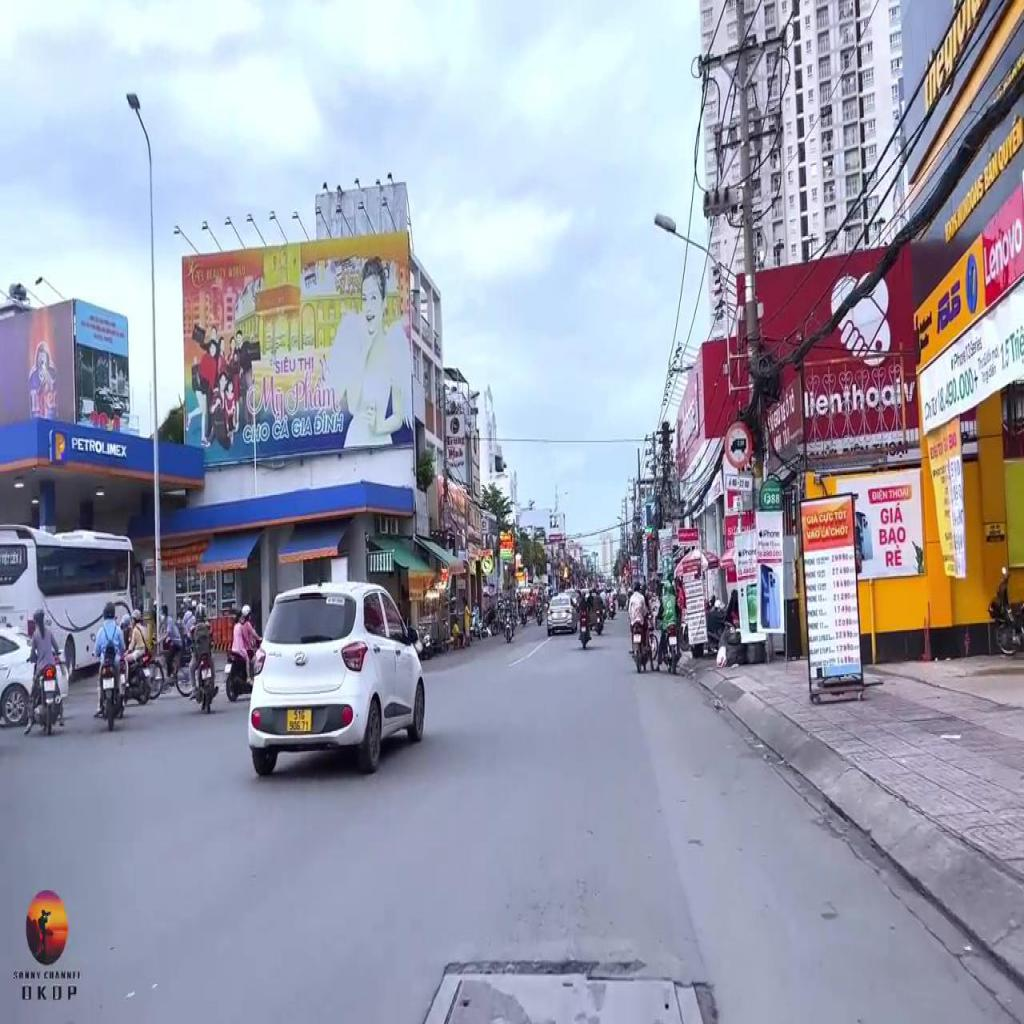cam_o_to_tai_trong_luong_qua_2-5t: (724, 418, 753, 469)
khac: (726, 474, 754, 492)
